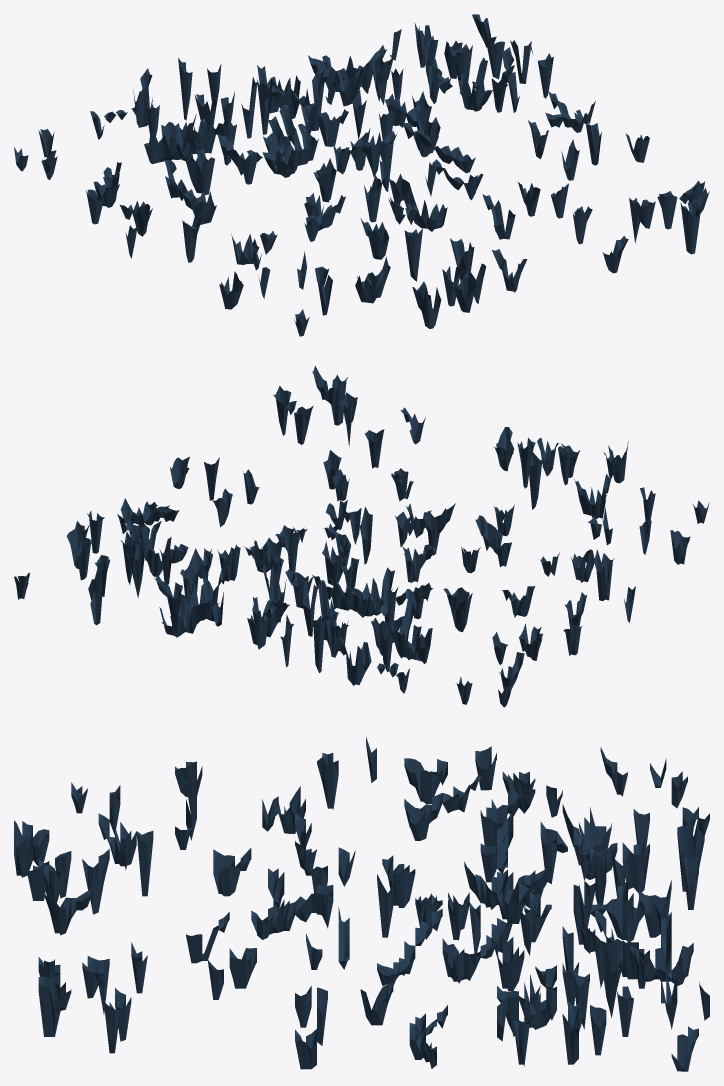
The model's file is landscape_ARCHIPELAGO_v1_rivers.obj.
3 renders of one model, top to bottom at view 1: azimuth 30°, elevation 25°; view 2: azimuth 150°, elevation 25°; view 3: azimuth 270°, elevation 25°, orthographic. The views are drawn at different scales.
Parts seen in each view (by area): view 1: rivers_ARCHIPELAGO; view 2: rivers_ARCHIPELAGO; view 3: rivers_ARCHIPELAGO.
Boxes of the visible parts, <box> form: rivers_ARCHIPELAGO: <box>14,14,709,336</box>; rivers_ARCHIPELAGO: <box>14,366,709,707</box>; rivers_ARCHIPELAGO: <box>14,737,709,1071</box>.
Size of the model in its own units: 253 by 29.95 by 255.
